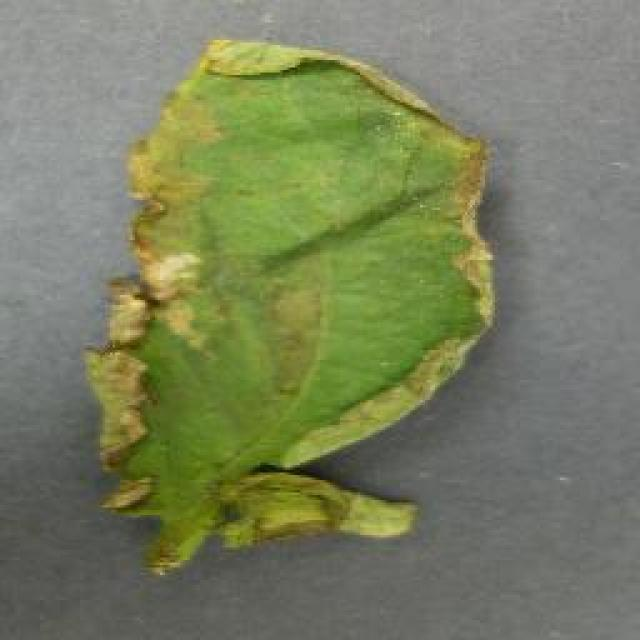Tomato bacterial spot leaf: (79, 30, 504, 560)
